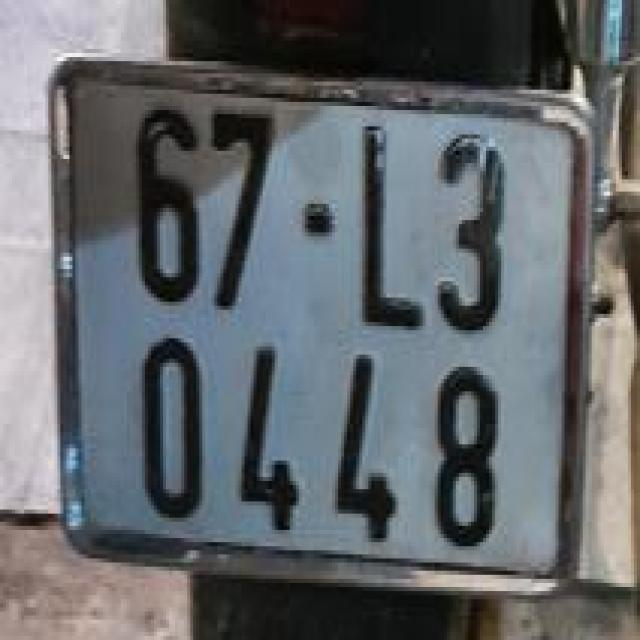0: (128, 318, 213, 534)
3: (435, 118, 519, 347)
4: (326, 344, 408, 556), (228, 326, 303, 542)
6: (127, 85, 208, 314)
7: (213, 94, 282, 326)
8: (426, 352, 507, 564)
L: (352, 96, 430, 336)
